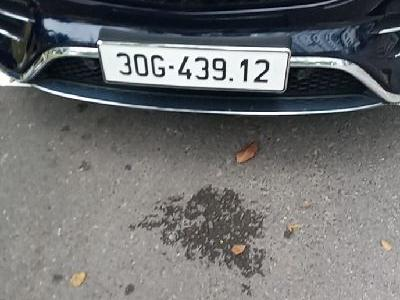lisence: (98, 40, 292, 95)
